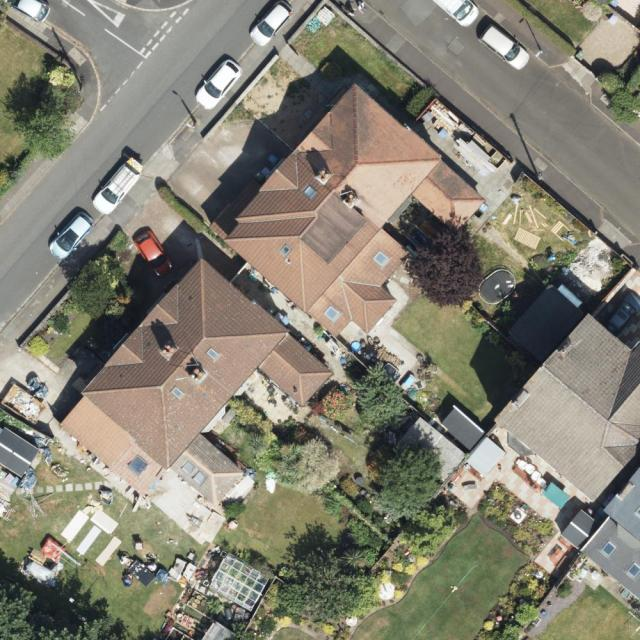roof: (205, 78, 486, 339), (58, 251, 334, 506), (491, 308, 640, 503), (563, 463, 640, 601)
skylight: (123, 453, 149, 477), (368, 248, 391, 269), (323, 304, 342, 323), (600, 540, 617, 558), (302, 184, 318, 202), (625, 561, 640, 580), (203, 349, 221, 363), (181, 460, 196, 475), (169, 386, 184, 400), (193, 471, 206, 487), (281, 244, 292, 257)
